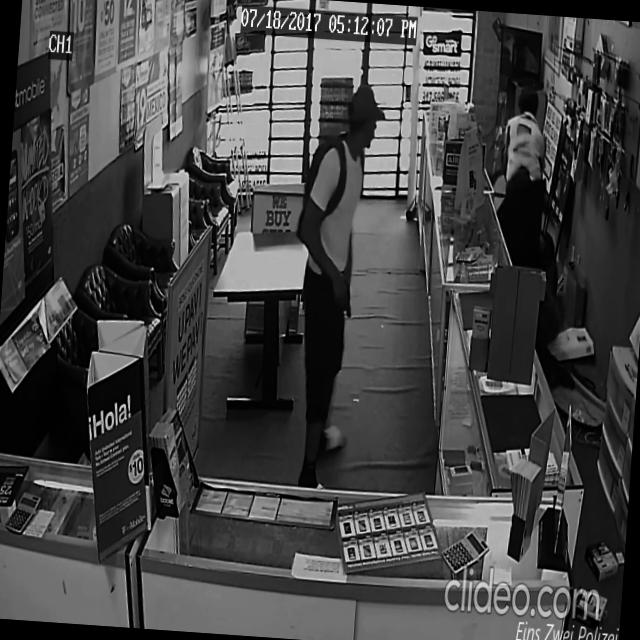gun: (334, 276, 356, 326)
person: (488, 77, 560, 336)
person with a gun: (278, 74, 389, 492)
